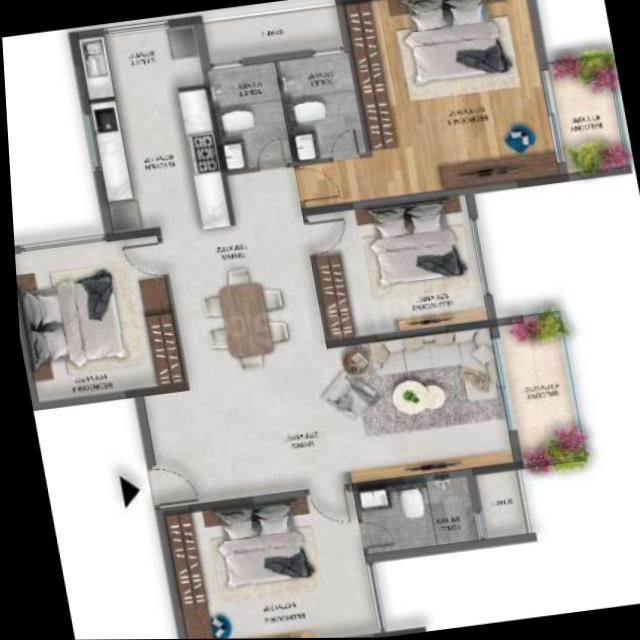Balcony-Sitout: (487, 308, 584, 470), (544, 51, 632, 184)
Bedroom: (149, 481, 379, 639), (11, 223, 184, 411), (303, 198, 492, 343)
Bedroom with Toilet: (271, 0, 563, 216)
Dining: (191, 260, 292, 377)
Enterance-Foyer: (107, 453, 214, 514)
Kitchen: (68, 12, 234, 245)
Living: (321, 322, 516, 492)
Toilet: (342, 468, 482, 564), (202, 51, 298, 179), (274, 43, 372, 167)
